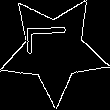L_E: (29, 33, 79, 67)
